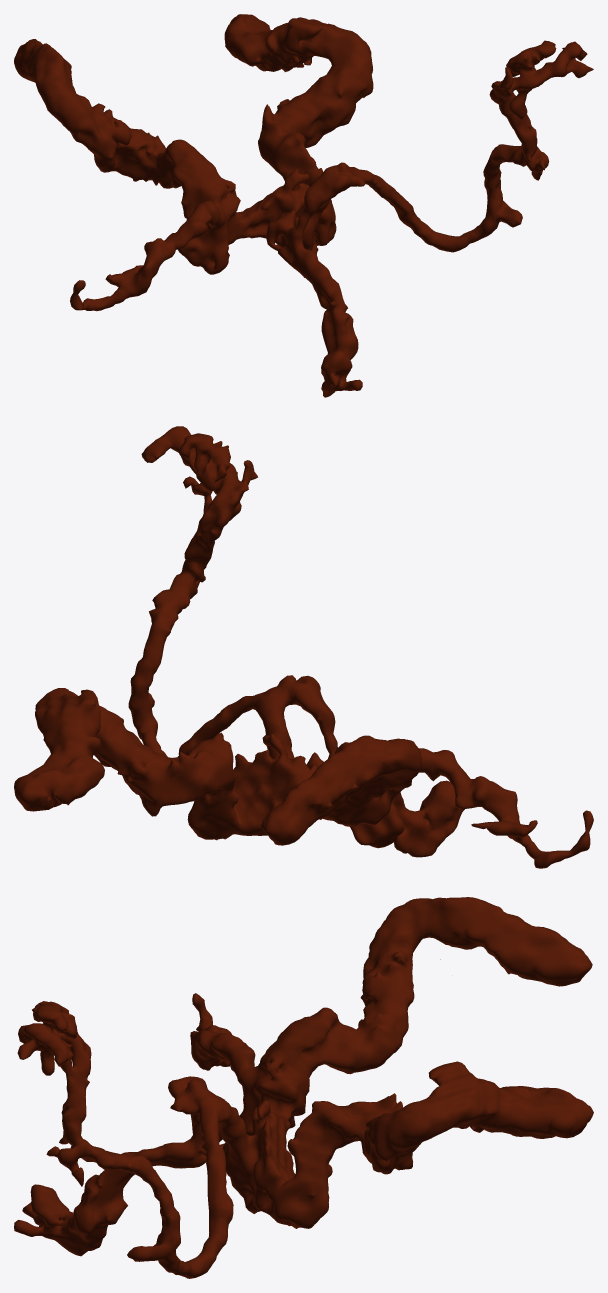
The model's file is Arteries.obj.
3 views of the same model, one above another, from view 1: azimuth 30°, elevation 25°; view 2: azimuth 150°, elevation 25°; view 3: azimuth 270°, elevation 25° (orthographic). The views are drawn at different scales.
Parts seen in each view (by area): view 1: grp1; view 2: grp1; view 3: grp1.
Boxes of the visible parts, x1,y1,x2,y2 form: grp1: (14, 14, 593, 397); grp1: (14, 426, 593, 868); grp1: (14, 897, 593, 1278).
Size of the model in its own units: 99.56 by 64.68 by 93.79.
